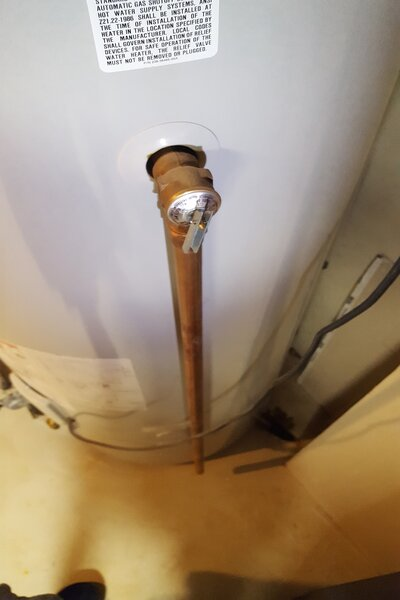valve: (146, 144, 222, 259)
